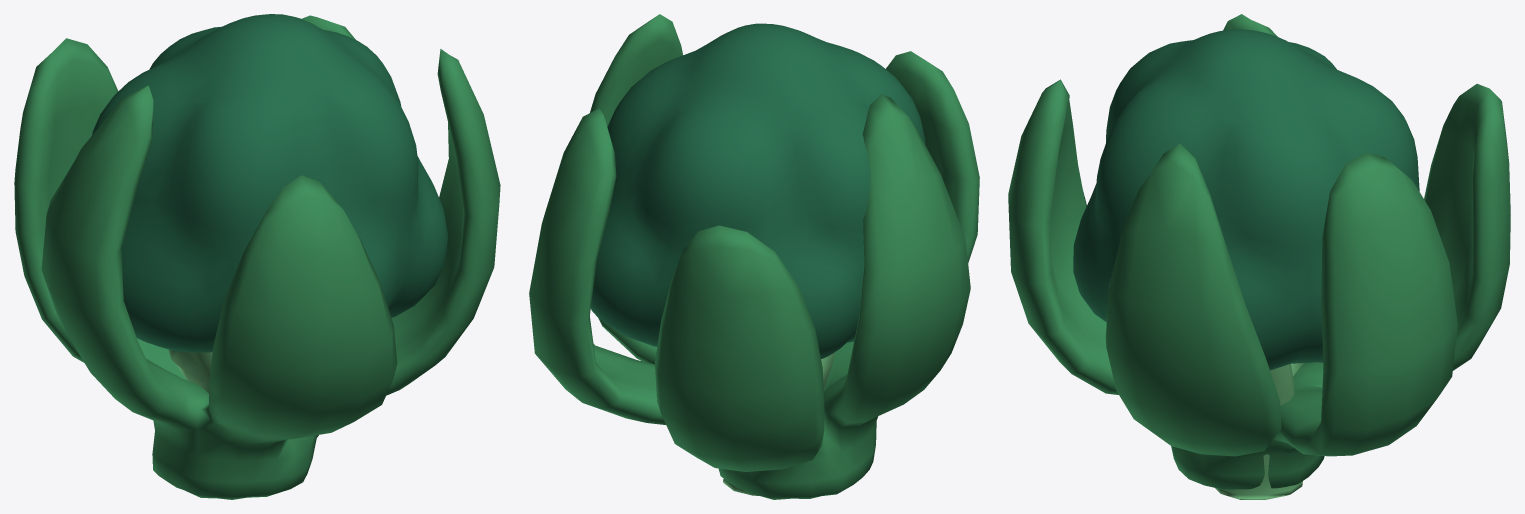
File: Broccoli_04.dae
3 views of the same model, side by side, from view 1: azimuth 30°, elevation 25°; view 2: azimuth 150°, elevation 25°; view 3: azimuth 270°, elevation 25° (orthographic). The views are drawn at different scales.
Visible parts, largest first — view 1: Broccoli_04_LOD0; view 2: Broccoli_04_LOD0; view 3: Broccoli_04_LOD0.
Boxes of the visible parts, left/top/right/bottom form: Broccoli_04_LOD0: left=14, top=14, right=500, bottom=499; Broccoli_04_LOD0: left=529, top=14, right=979, bottom=499; Broccoli_04_LOD0: left=1008, top=14, right=1510, bottom=499.
Size of what is drawn, in the model's own units: 5.58 by 6.15 by 6.04.
